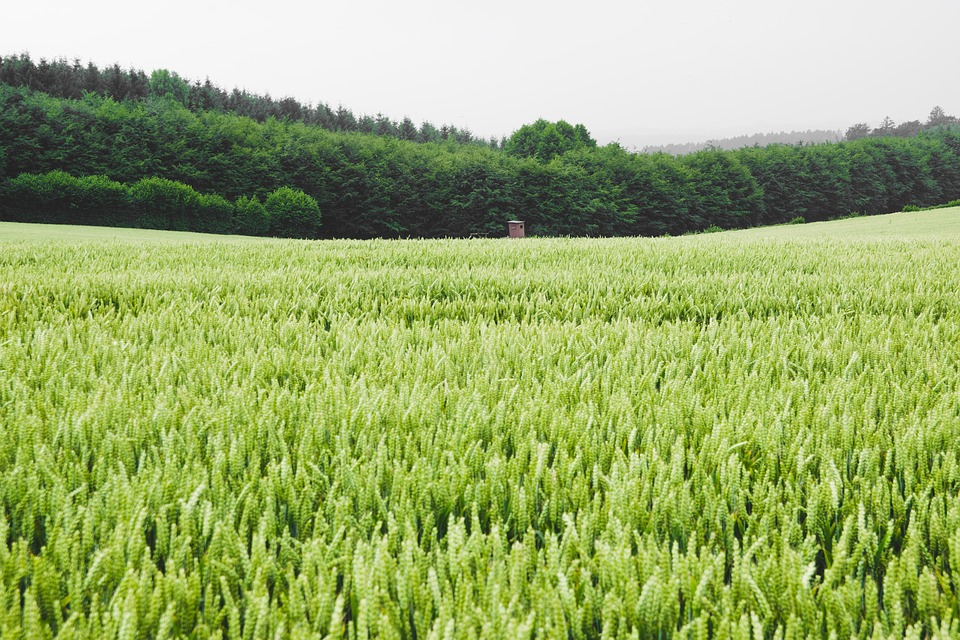Wheat: (78, 404, 844, 620)
